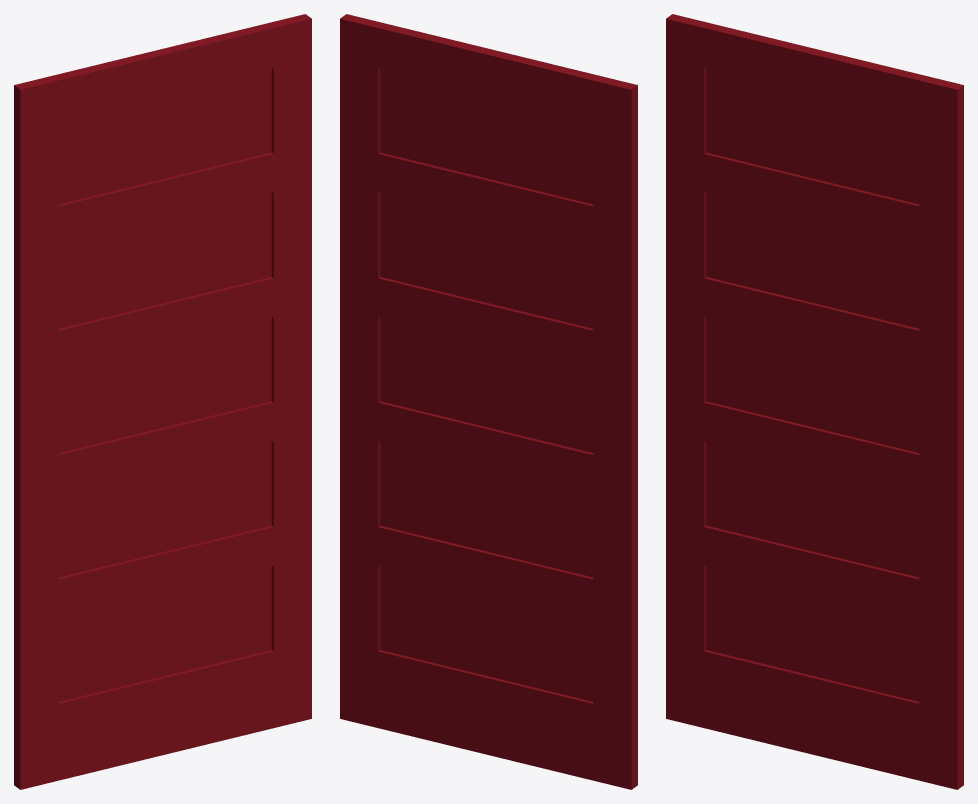
Rendered from SimpleDoorSwing_03.fbx.
3 renders of one model, left to right at view 1: azimuth 30°, elevation 25°; view 2: azimuth 150°, elevation 25°; view 3: azimuth 330°, elevation 25°, orthographic.
Visible parts, largest first — view 1: Door_Swing_01; view 2: Door_Swing_01; view 3: Door_Swing_01.
Boxes of the visible parts, x1=… form: Door_Swing_01: x1=14, y1=14, x2=311, y2=789; Door_Swing_01: x1=340, y1=14, x2=637, y2=789; Door_Swing_01: x1=666, y1=14, x2=963, y2=789.
Bounding box in the file's own units: 36.02 × 1.38 × 82.68.
